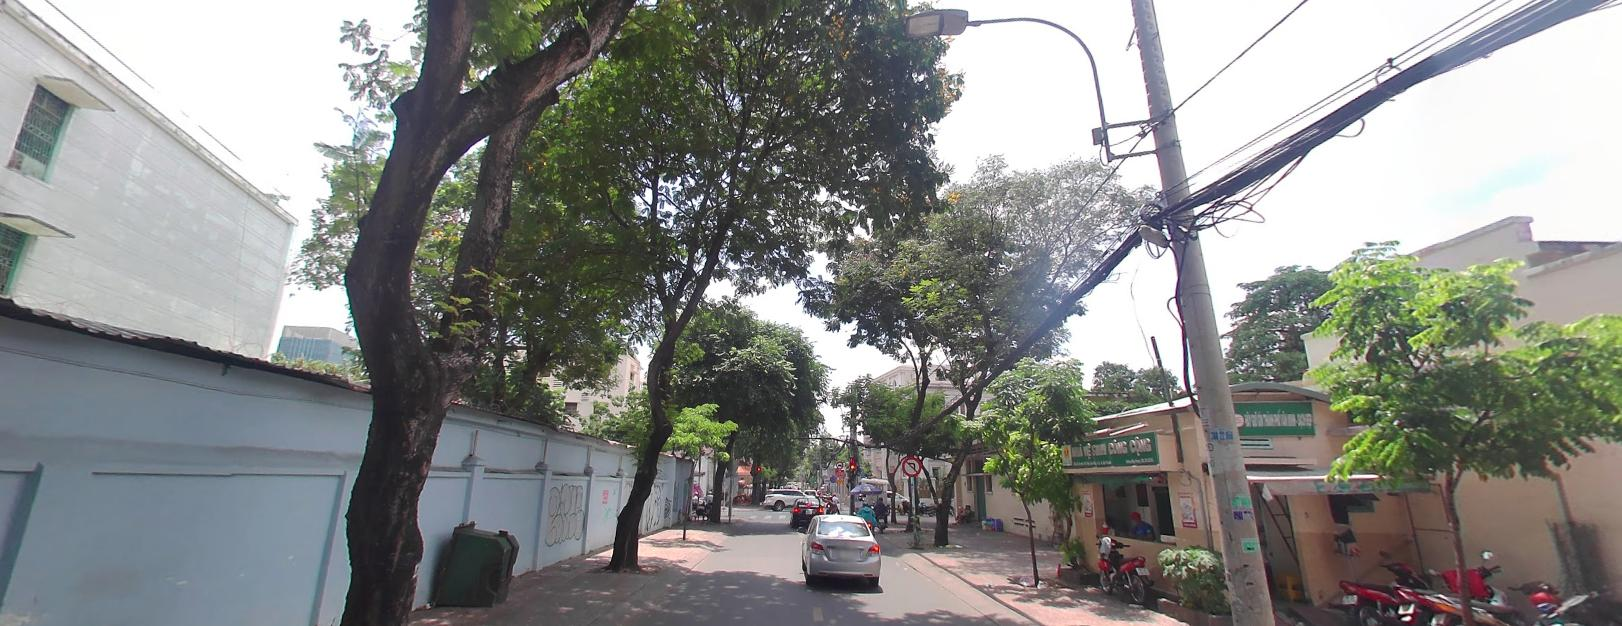Cam con lai: (836, 460, 842, 467)
Cam dung va do: (829, 475, 835, 481)
Cam re: (901, 455, 920, 475)
Nguy hiem: (837, 476, 843, 482)
